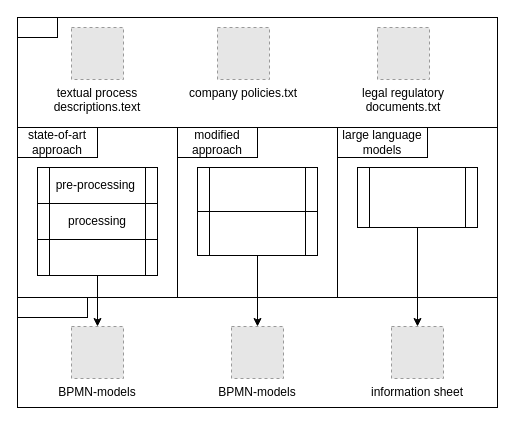
This 515x425 diagram has some shape labels left out. Grey dashed boxes stand in for pictures. The shapes that lost their labels are listed below. From the top down, each one's centre as x and y in pixels, then its label:
point 37,27: input
point 257,189: spreadsheet-based approach
point 417,197: GPT-3.5 GPT-4
point 257,233: declarative constraint
point 97,257: post-processing
point 52,307: comparison
